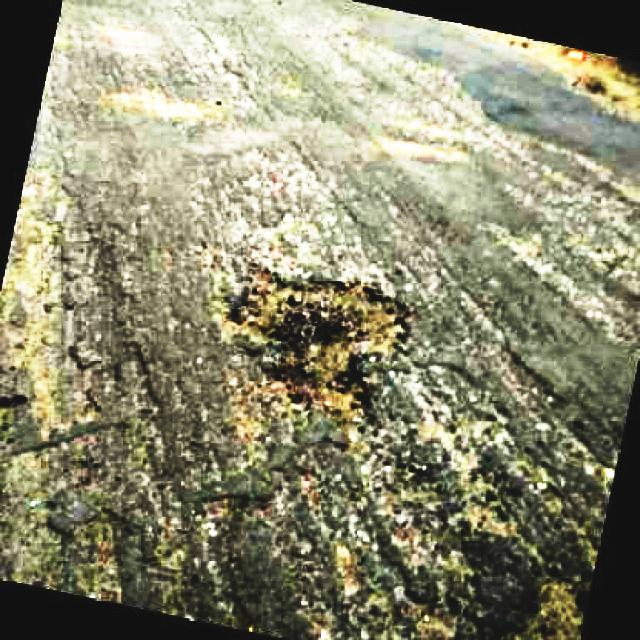pothole: (224, 263, 413, 406), (486, 557, 591, 640)
